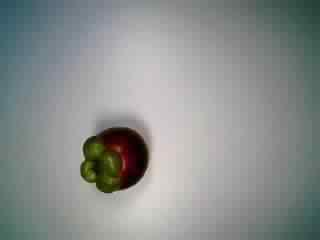mangosteen: (69, 122, 155, 196)
